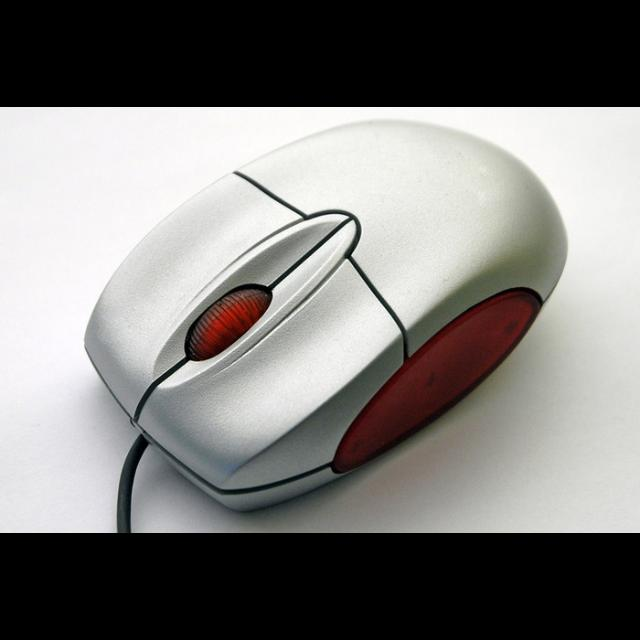Computer-Mouse: (84, 119, 569, 514)
